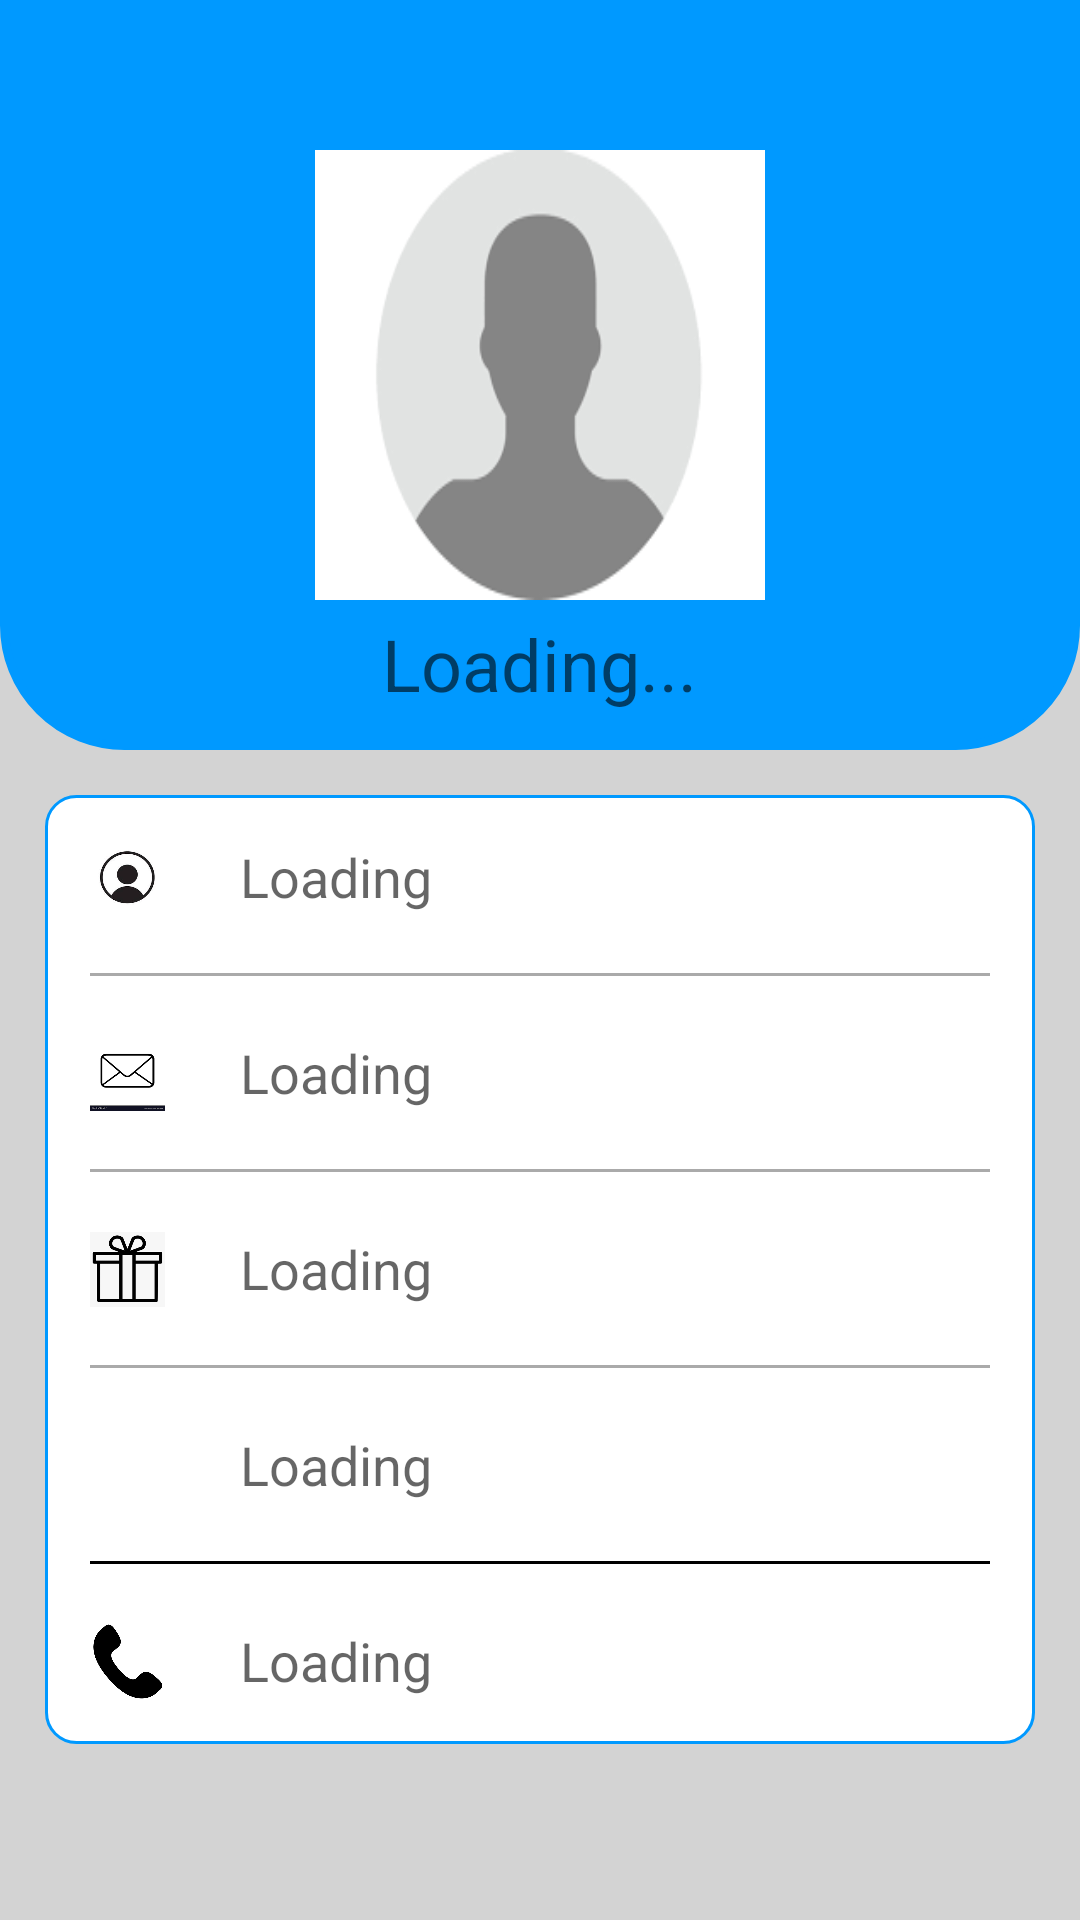

Screen size 1080 × 1920. Icon name, then its box in pixels as (x1, y1, x2, y2):
birthday: (92, 1235, 162, 1302)
email: (90, 1054, 165, 1111)
mobile: (93, 1624, 162, 1699)
profile: (100, 851, 155, 904)
